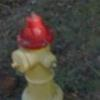a fire hydrant: (12, 15, 63, 100)
